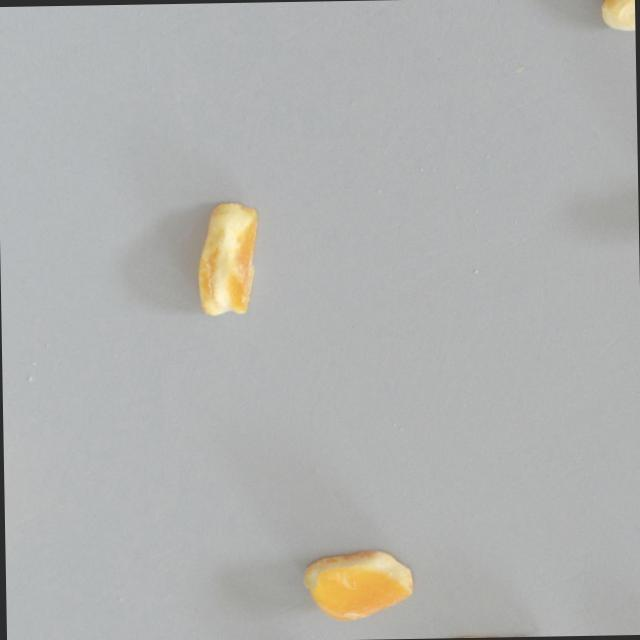pelicula: (191, 197, 263, 318), (301, 549, 412, 622), (445, 627, 561, 638), (598, 0, 635, 33)
